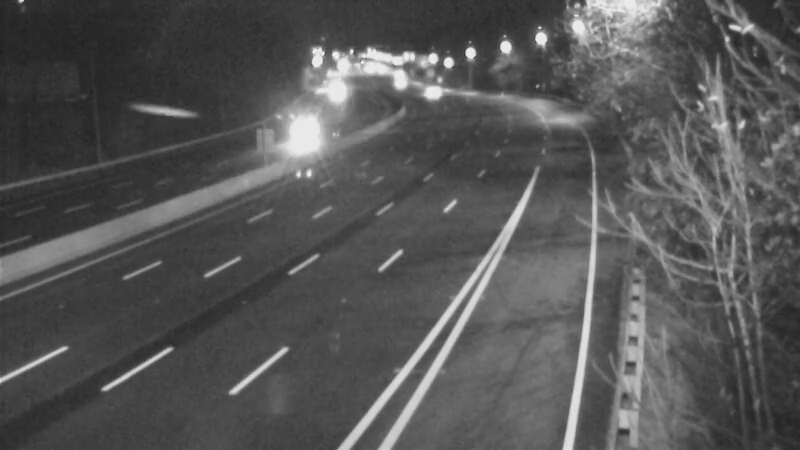vehicle: (400, 68, 450, 118), (277, 108, 327, 158), (310, 64, 360, 114)
